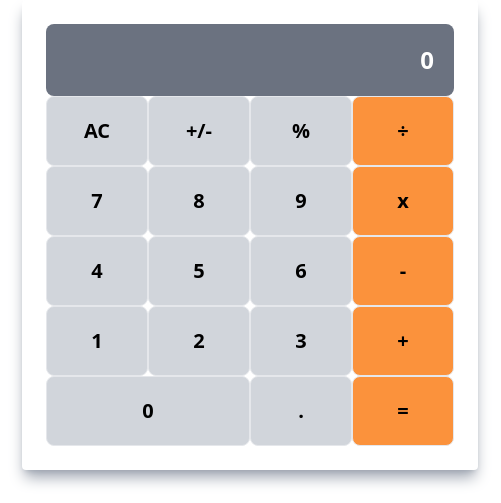
Test: Calculator › correctly performs subtraction
Click the button "5".
click(199, 271)  # box [148,236,250,306]
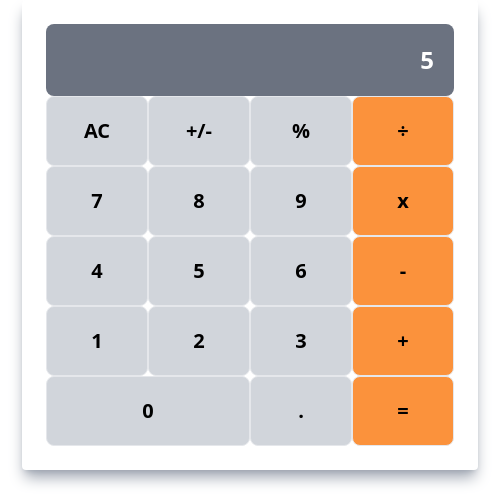
Click the button "-".
click(403, 271)  # box [352,236,454,306]
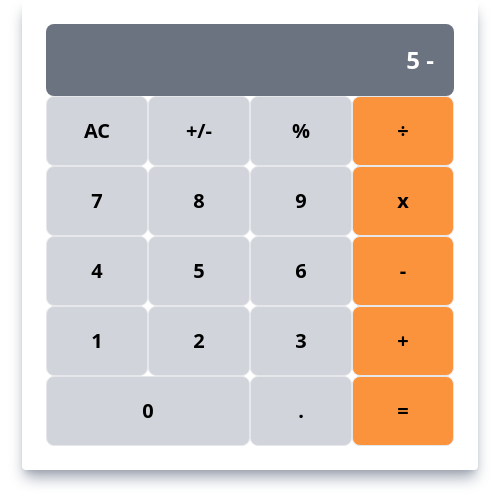
Click the button "3".
click(301, 341)  # box [250,306,352,376]
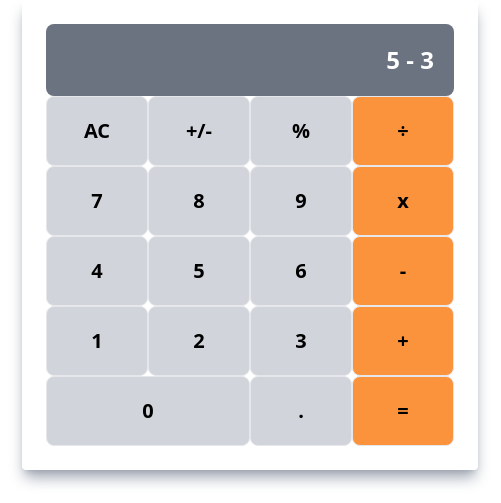
Click the button "=".
click(403, 411)  # box [352,376,454,446]
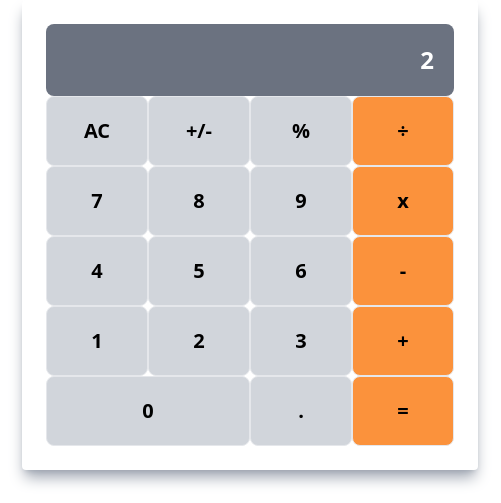
Expected: the field with test id "display" holds "2", [46,24,454,96]
